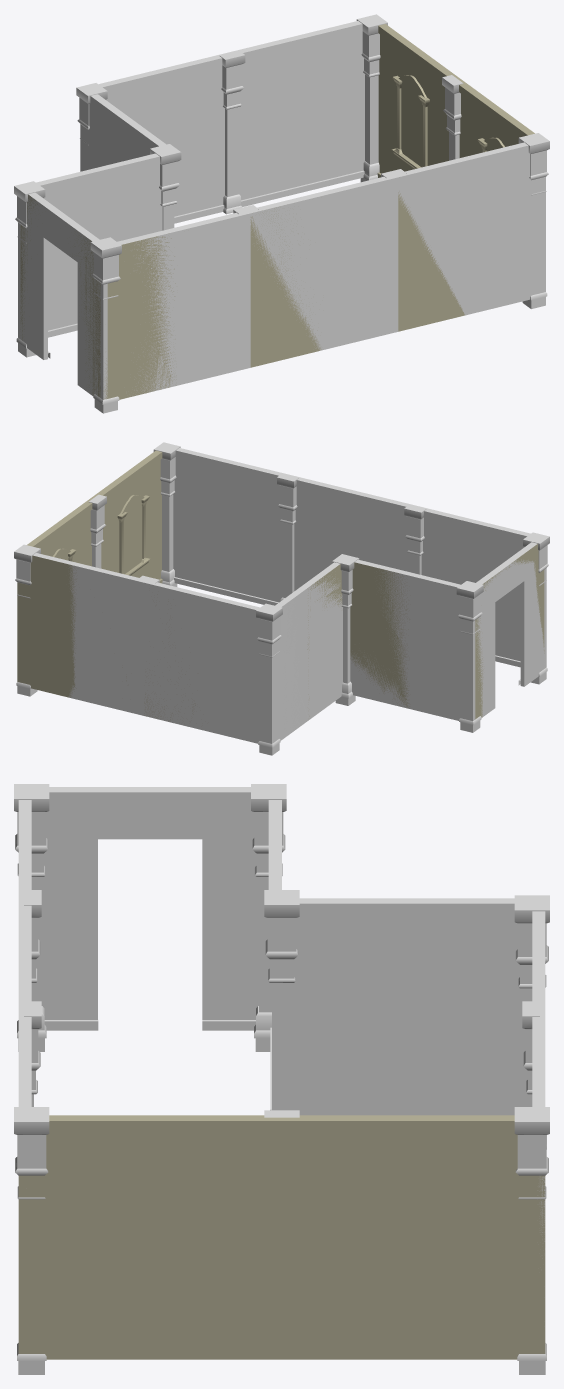
Rendered from Homeworld_Interior_Md_Room_G_Wall_01_Vo.fbx.
3 renders of one model, top to bottom at view 1: azimuth 30°, elevation 25°; view 2: azimuth 150°, elevation 25°; view 3: azimuth 270°, elevation 25°, orthographic. The views are drawn at different scales.
Visible parts, largest first — view 1: Homeworld_Interior_Md_Room_Wall_01_Vo (×7), Homeworld_Interior_Md_Room_G_Filling_01_Vo, Homeworld_Interior_Md_Room_Wall_03_Vo (×2), Homeworld_Interior_Md_Room_Wall_06_Vo, Homeworld_Interior_Md_Room_Pillar_01_Vo (×6), Homeworld_Interior_Md_Room_Pillar_02_Vo (×2); view 2: Homeworld_Interior_Md_Room_Wall_01_Vo (×7), Homeworld_Interior_Md_Room_G_Filling_01_Vo, Homeworld_Interior_Md_Room_Wall_03_Vo (×2), Homeworld_Interior_Md_Room_Pillar_01_Vo (×6), Homeworld_Interior_Md_Room_Wall_06_Vo, Homeworld_Interior_Md_Room_Pillar_02_Vo (×3); view 3: Homeworld_Interior_Md_Room_G_Filling_01_Vo, Homeworld_Interior_Md_Room_Wall_01_Vo (×7), Homeworld_Interior_Md_Room_Wall_06_Vo, Homeworld_Interior_Md_Room_Pillar_01_Vo (×6), Homeworld_Interior_Md_Room_Wall_03_Vo (×2), Homeworld_Interior_Md_Room_Pillar_02_Vo (×3).
Boxes of the visible parts, x1,y1,x2,y2 form: Homeworld_Interior_Md_Room_Wall_01_Vo (×7): [18, 21, 545, 399]; Homeworld_Interior_Md_Room_G_Filling_01_Vo: [20, 191, 465, 399]; Homeworld_Interior_Md_Room_Wall_03_Vo (×2): [377, 24, 534, 177]; Homeworld_Interior_Md_Room_Wall_06_Vo: [20, 192, 107, 399]; Homeworld_Interior_Md_Room_Pillar_01_Vo (×6): [14, 14, 549, 413]; Homeworld_Interior_Md_Room_Pillar_02_Vo (×2): [220, 51, 463, 214]; Homeworld_Interior_Md_Room_Wall_01_Vo (×7): [32, 448, 546, 743]; Homeworld_Interior_Md_Room_G_Filling_01_Vo: [17, 544, 544, 721]; Homeworld_Interior_Md_Room_Wall_03_Vo (×2): [17, 450, 162, 680]; Homeworld_Interior_Md_Room_Pillar_01_Vo (×6): [14, 442, 549, 755]; Homeworld_Interior_Md_Room_Wall_06_Vo: [476, 542, 544, 717]; Homeworld_Interior_Md_Room_Pillar_02_Vo (×3): [89, 474, 426, 600]; Homeworld_Interior_Md_Room_G_Filling_01_Vo: [18, 1121, 545, 1359]; Homeworld_Interior_Md_Room_Wall_01_Vo (×7): [18, 800, 545, 1258]; Homeworld_Interior_Md_Room_Wall_06_Vo: [41, 787, 258, 1030]; Homeworld_Interior_Md_Room_Pillar_01_Vo (×6): [14, 784, 549, 1374]; Homeworld_Interior_Md_Room_Wall_03_Vo (×2): [49, 1115, 545, 1353]; Homeworld_Interior_Md_Room_Pillar_02_Vo (×3): [24, 890, 539, 1106].
Size of what is drawn, in the model's own units: 15.17 by 5.34 by 10.17.
